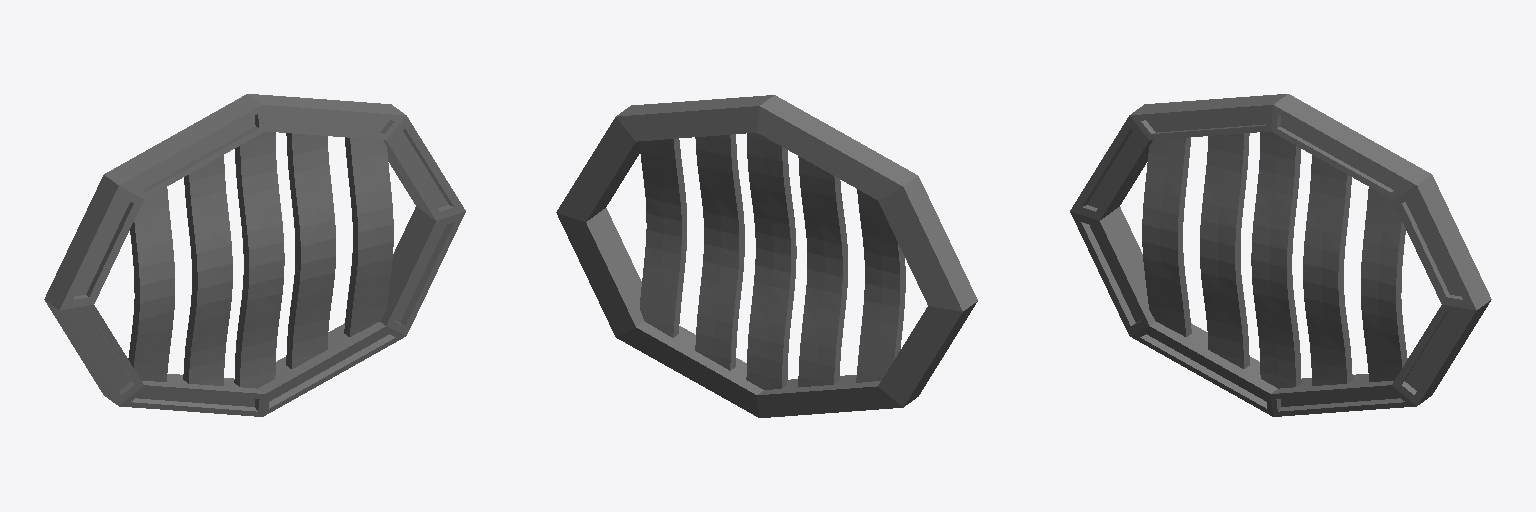
Rendered from Grate.obj.
3 renders of one model, left to right at view 1: azimuth 30°, elevation 25°; view 2: azimuth 150°, elevation 25°; view 3: azimuth 330°, elevation 25°, orthographic.
Parts seen in each view (by area): view 1: Grate_; view 2: Grate_; view 3: Grate_.
Boxes of the visible parts, box(x1,y1,x2,y2) form: Grate_: box(44, 94, 465, 416); Grate_: box(556, 95, 977, 417); Grate_: box(1070, 94, 1491, 416).
Size of the model in its own units: 4.63 by 3.4 by 0.433.